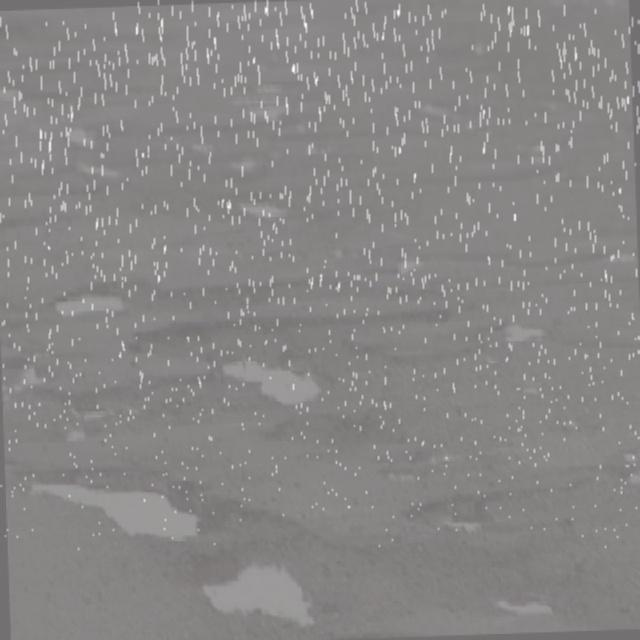Pothole: (0, 451, 368, 639), (0, 270, 511, 338), (6, 339, 158, 466), (202, 346, 335, 424), (470, 570, 594, 640), (58, 120, 137, 197), (211, 185, 305, 247), (492, 311, 593, 367), (383, 488, 491, 536), (58, 276, 136, 318)
